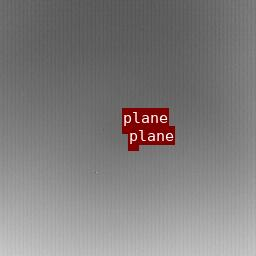plane: (122, 127, 135, 133), (128, 145, 138, 150)
